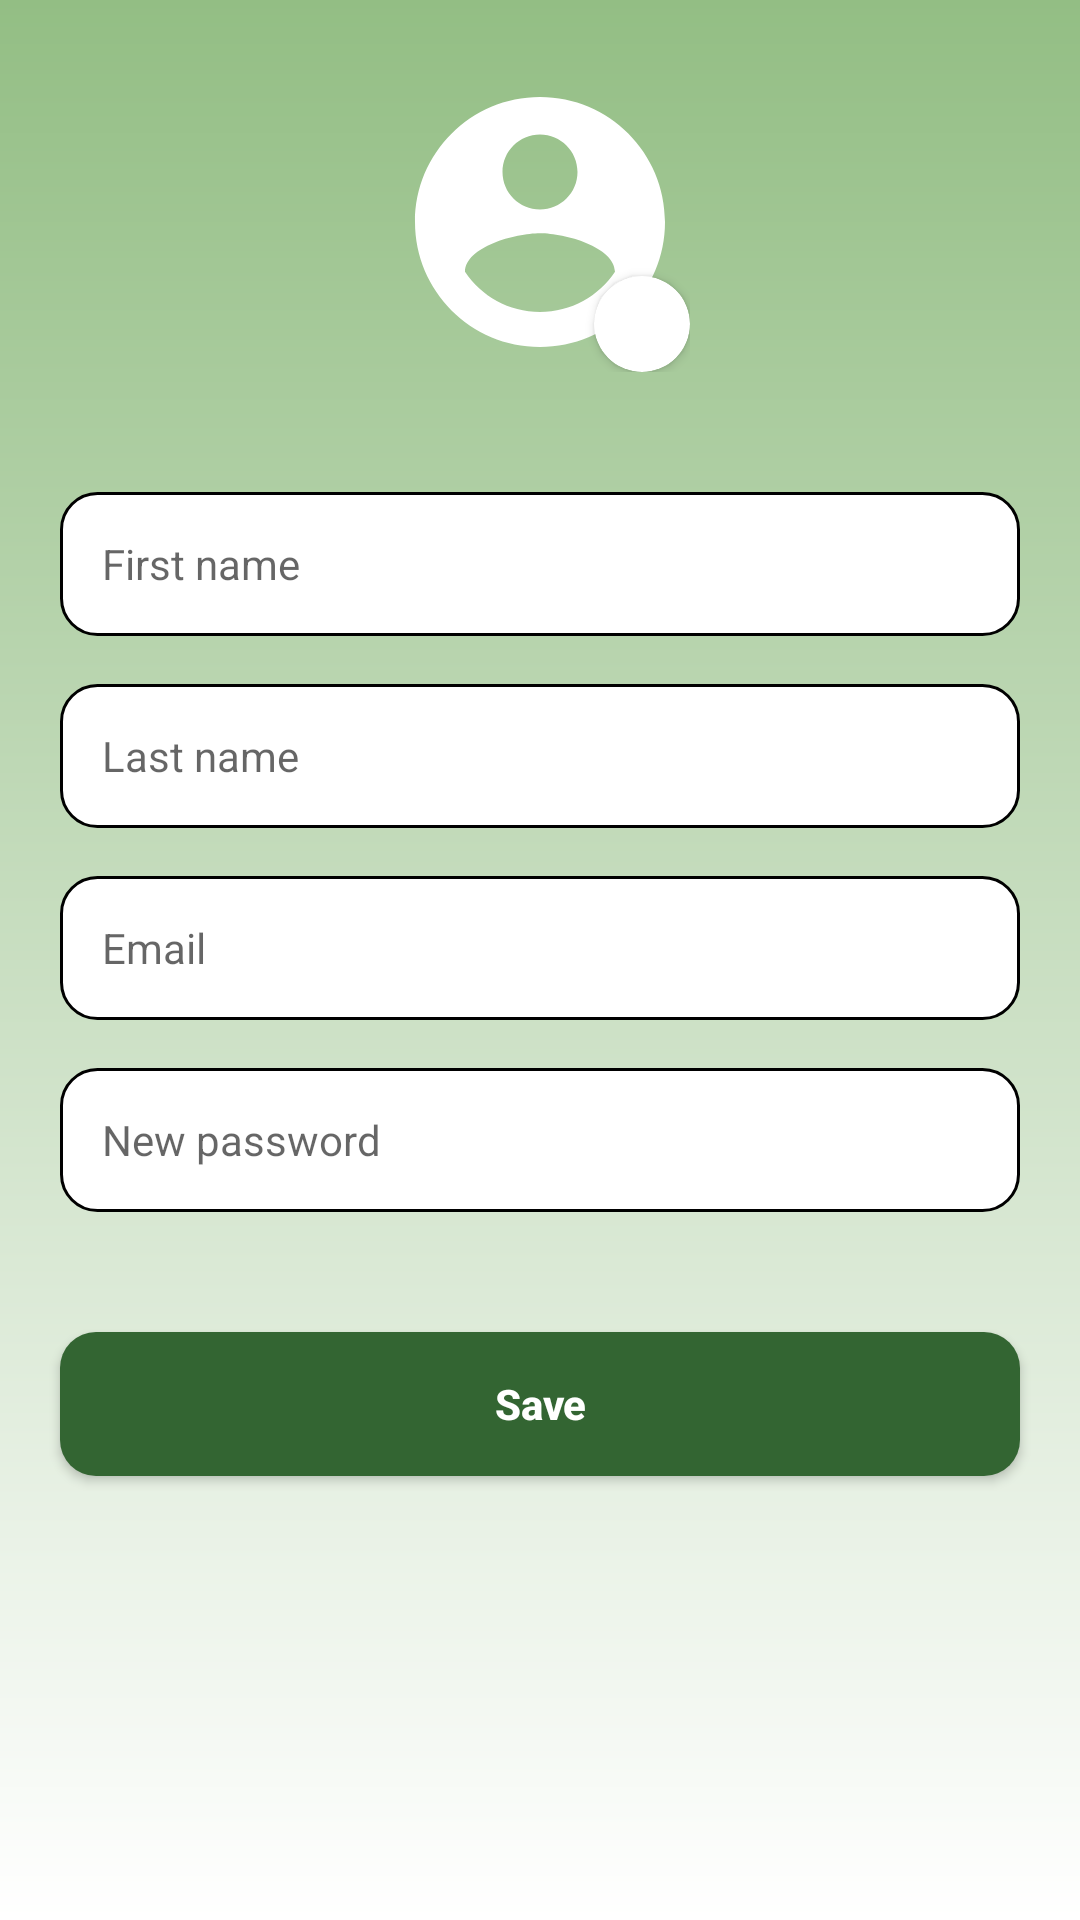

Locate icon controls on the screen. Image size 1080px×1920px, boxes as {"left": x1, "top": y1, "right": x2, "bottom": y2}.
profile picture: {"left": 415, "top": 97, "right": 690, "bottom": 372}
